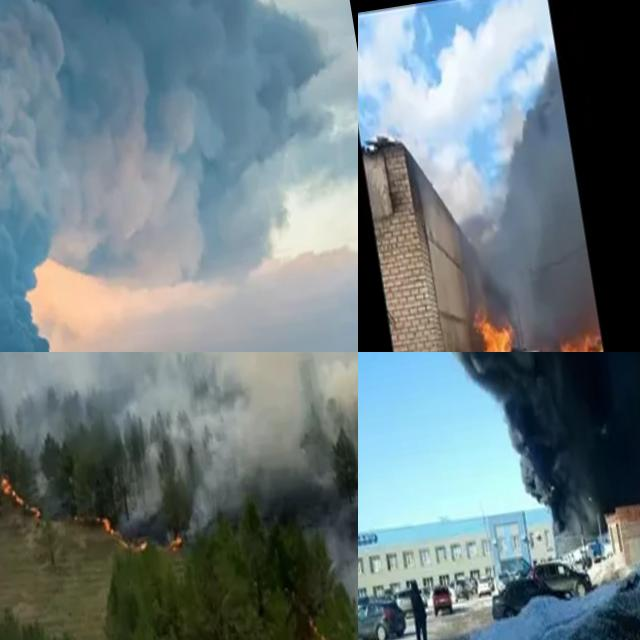smoke: (0, 352, 358, 640), (358, 352, 640, 561), (438, 90, 598, 352), (0, 0, 105, 352)
